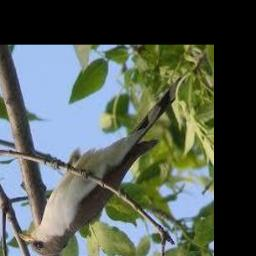Cuckoo: (18, 75, 186, 256)
